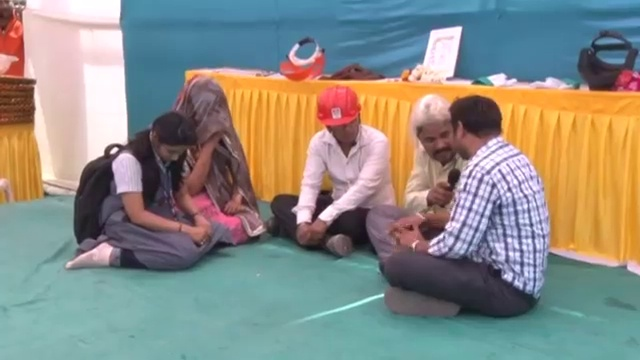helmet: (313, 86, 363, 130), (0, 52, 20, 79)
helmet_off: (448, 93, 507, 168), (406, 97, 458, 163), (140, 111, 196, 170), (181, 78, 230, 140), (0, 1, 17, 28)
helmet_on: (314, 85, 364, 146)
person: (376, 84, 555, 321), (66, 110, 229, 272), (267, 78, 399, 260), (363, 91, 471, 253), (174, 75, 265, 247), (0, 1, 25, 83)
